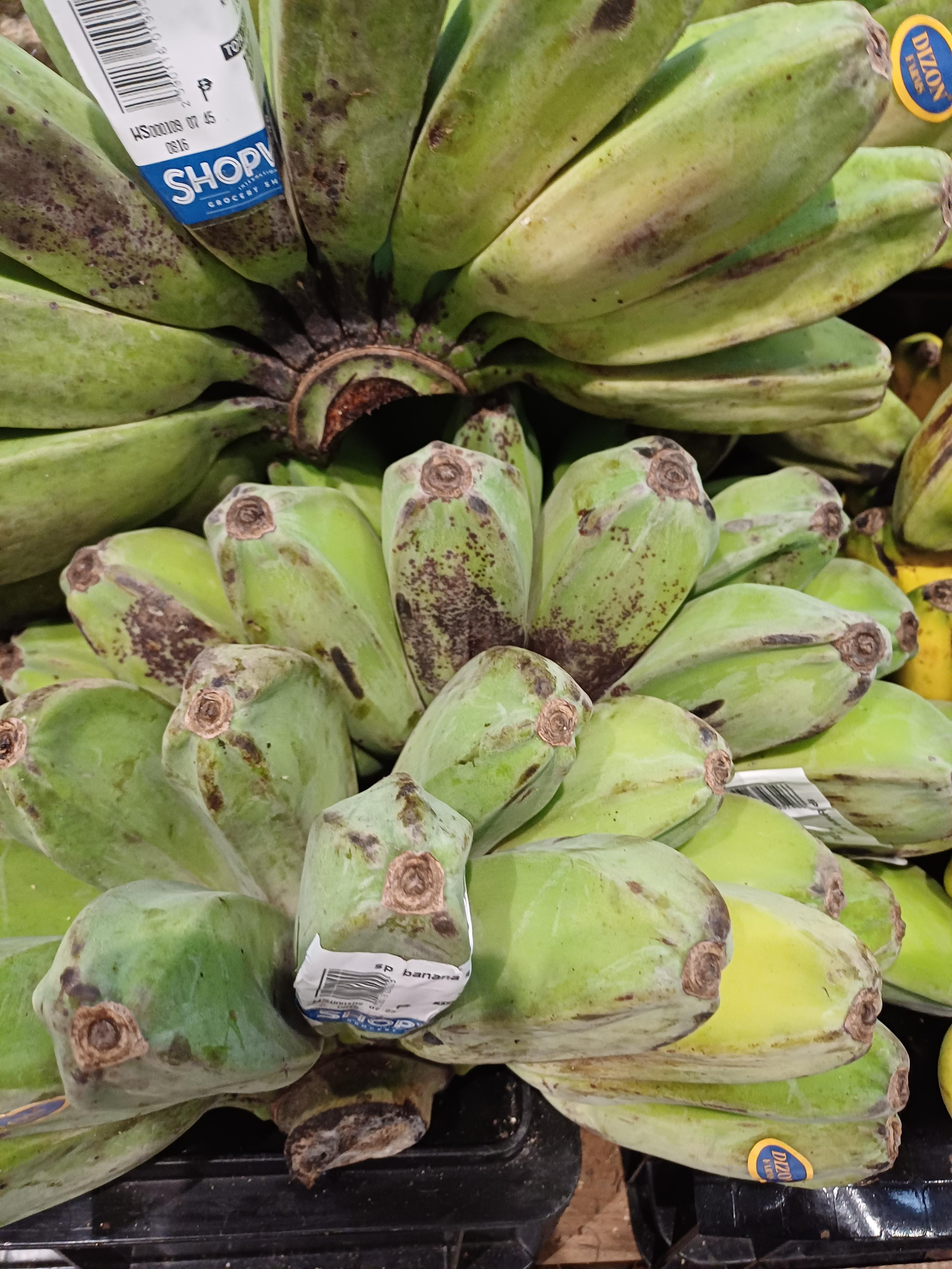underripe: (0, 0, 952, 585), (0, 644, 908, 1224), (0, 436, 952, 854)
